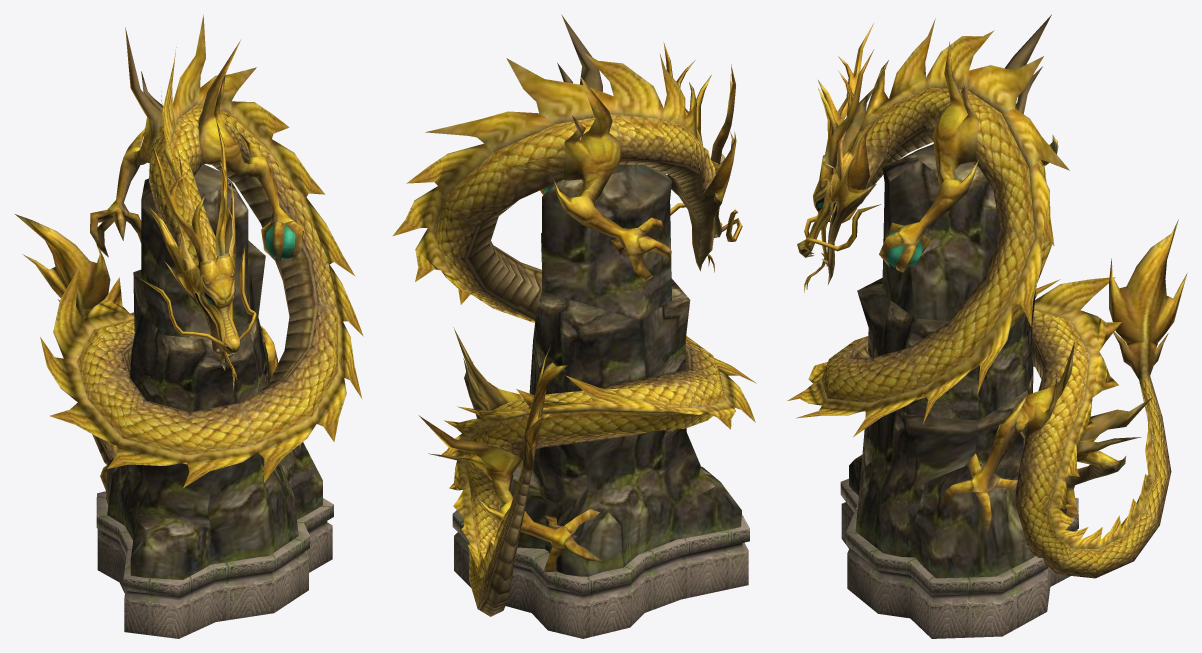
Rendered from fort_stone_ja.glb.
The picture shows the model from 3 angles, left to right: view 1: azimuth 30°, elevation 25°; view 2: azimuth 150°, elevation 25°; view 3: azimuth 270°, elevation 25°; orthographic projection. The views are drawn at different scales.
Parts seen in each view (by area): view 1: res\artifact\guild\fort_stone\fort_stone_ja.bsr; view 2: res\artifact\guild\fort_stone\fort_stone_ja.bsr; view 3: res\artifact\guild\fort_stone\fort_stone_ja.bsr.
Part boxes in pixels (x1,y1,x2,y2): res\artifact\guild\fort_stone\fort_stone_ja.bsr: (15,15,363,638); res\artifact\guild\fort_stone\fort_stone_ja.bsr: (392,14,756,638); res\artifact\guild\fort_stone\fort_stone_ja.bsr: (787,14,1187,638).
Bounding box in the file's own units: 166 × 278 × 181.
Materials: 2 (2 with a texture image).
